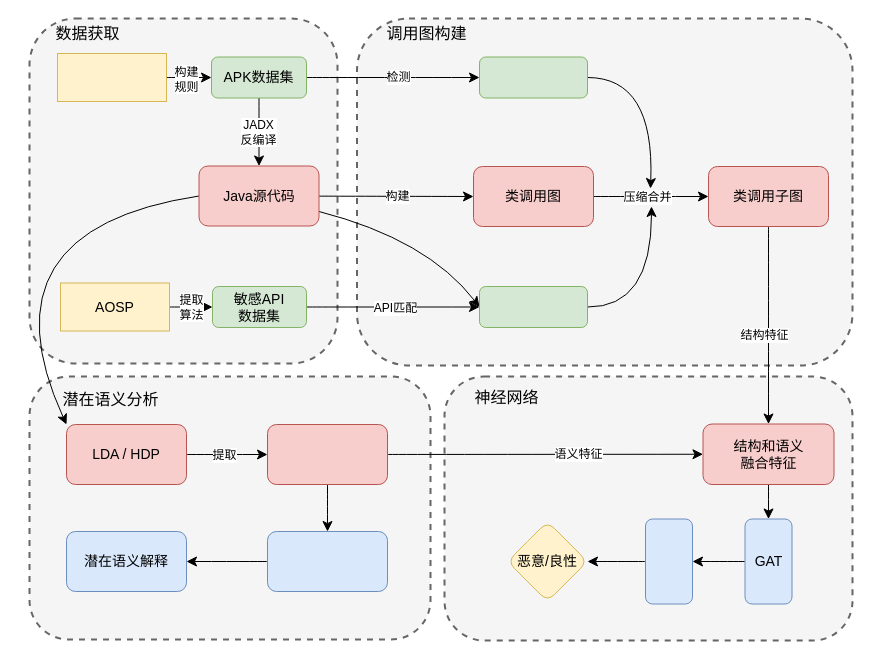
This 870x658 diagram has some shape labels left out. Each missing label, with the centre of its shape:
"APK使用的 第三方库" goes at [533,77].
"BERT / GPT" goes at [327,561].
"CNN" goes at [668,561].
"潜在语义主题" goes at [327,454].
"类调用的 敏感API" goes at [533,307].
"获取APK文件" goes at [111,77].
